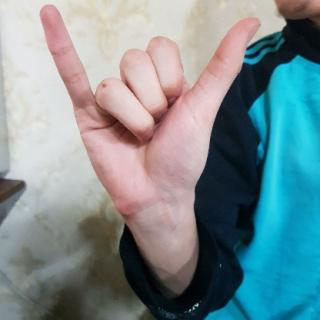YA: (39, 1, 262, 227)
